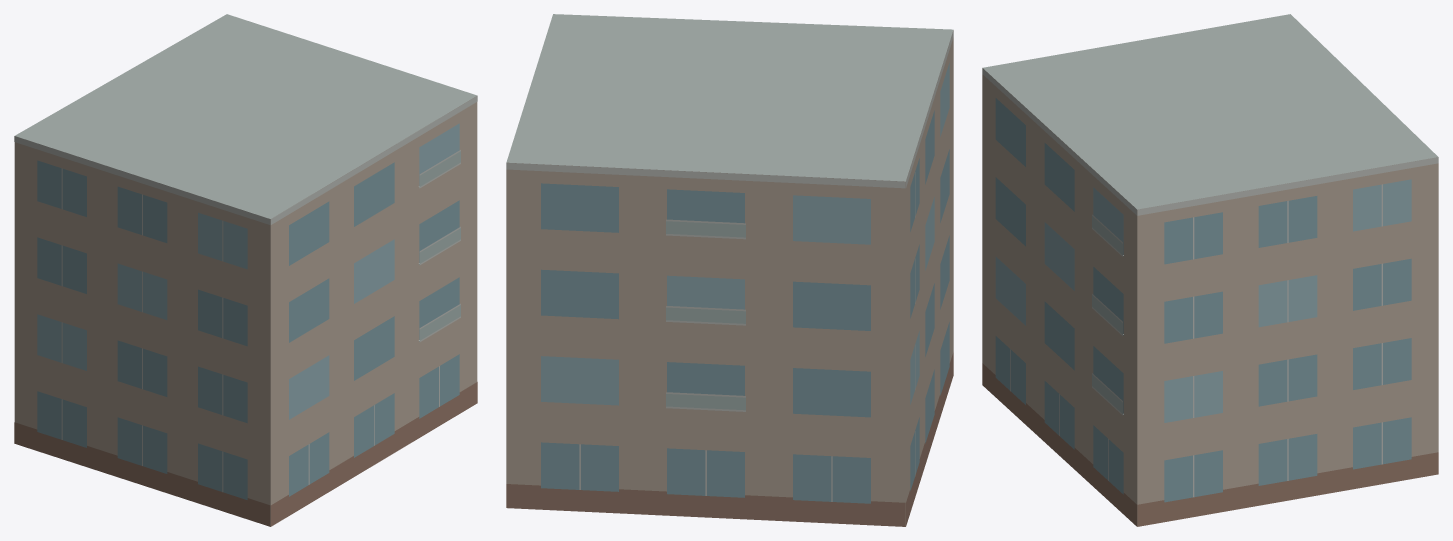
Rendered from survey-upis-32866165.glb.
3 views of the same model, side by side, from view 1: azimuth 30°, elevation 25°; view 2: azimuth 150°, elevation 25°; view 3: azimuth 270°, elevation 25° (orthographic). The views are drawn at different scales.
Parts seen in each view (by area): view 1: survey-upis-32866165.tmp; view 2: survey-upis-32866165.tmp; view 3: survey-upis-32866165.tmp.
Boxes of the visible parts, x1,y1,x2,y2 form: survey-upis-32866165.tmp: (14, 14, 477, 526); survey-upis-32866165.tmp: (506, 14, 953, 526); survey-upis-32866165.tmp: (982, 14, 1438, 526).
Size of the model in its own units: 16.27 by 12.3 by 16.03.
